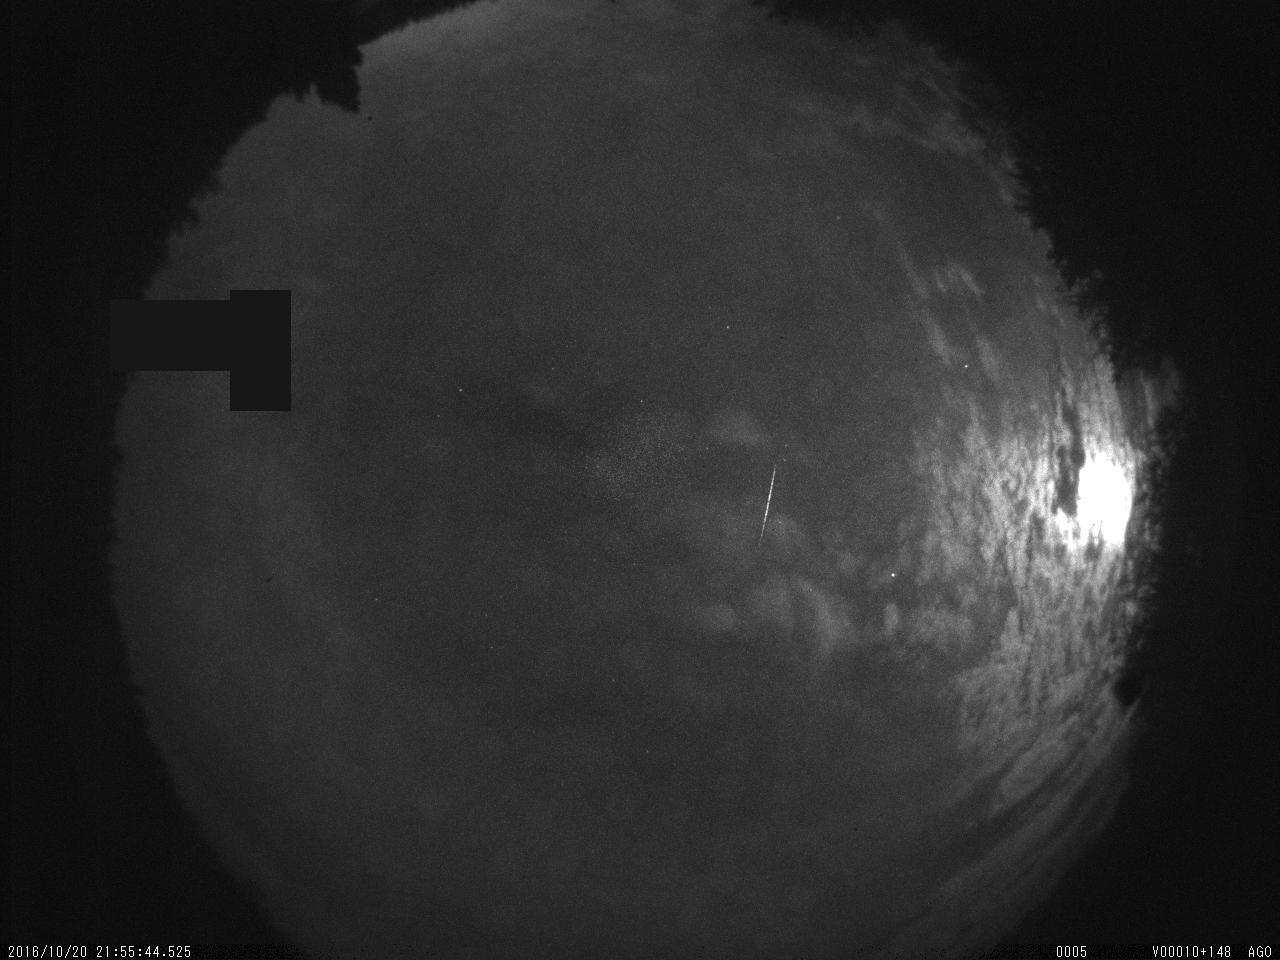meteor: (745, 451, 786, 564)
